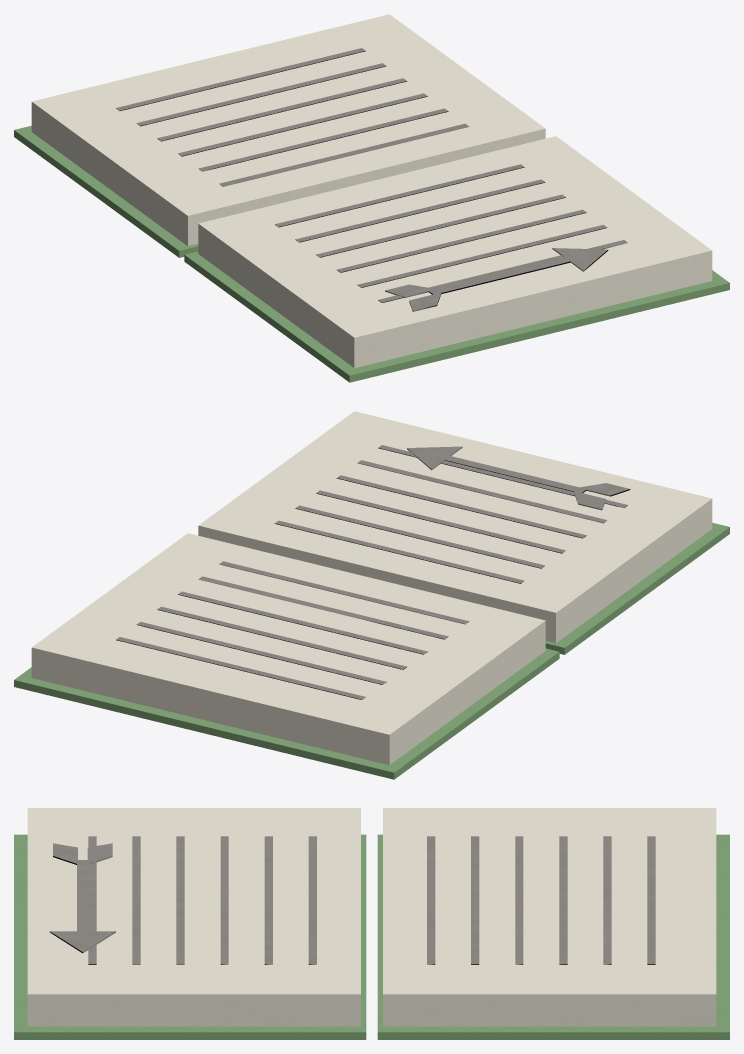
File: FL_BookArcheryOpen.fbx
The picture shows the model from 3 angles, top to bottom: view 1: azimuth 30°, elevation 25°; view 2: azimuth 150°, elevation 25°; view 3: azimuth 270°, elevation 25°; orthographic projection. The views are drawn at different scales.
Parts seen in each view (by area): view 1: FL_BookArcheryOpen; view 2: FL_BookArcheryOpen; view 3: FL_BookArcheryOpen.
Part boxes in pixels (x1,y1,x2,y2): FL_BookArcheryOpen: (14,14,729,382); FL_BookArcheryOpen: (14,411,729,779); FL_BookArcheryOpen: (14,808,729,1039).
Bounding box in the file's own units: 0.0142 × 0.00138 × 0.0217.
